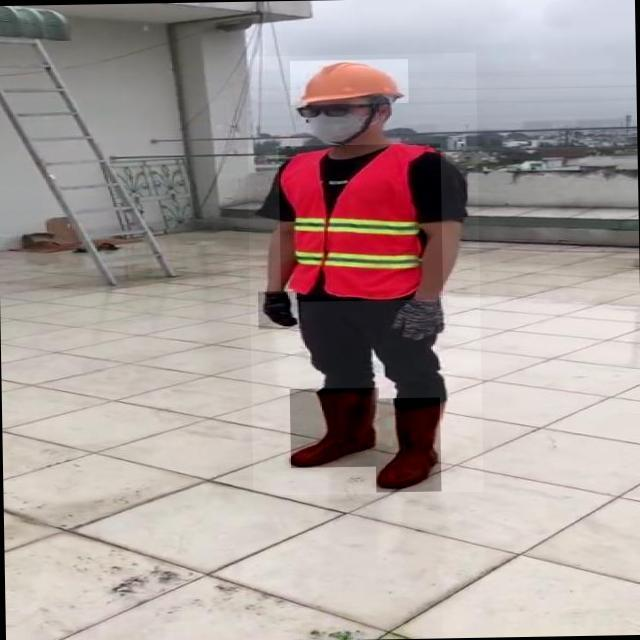Gloves: (390, 300, 453, 342), (258, 290, 301, 329)
Helmet: (290, 59, 409, 105)
Human: (245, 52, 483, 495)
Safety Boot: (290, 387, 380, 468), (375, 397, 443, 492)
Safety Vest: (278, 143, 443, 302)
